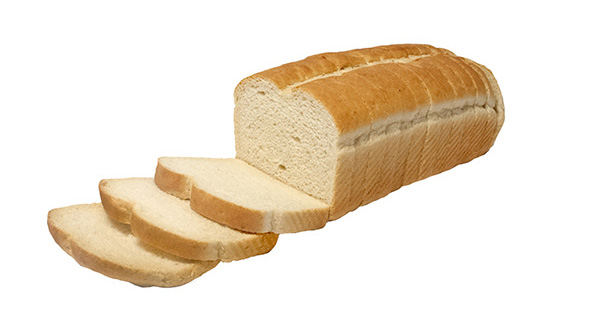slice of bread: (40, 41, 545, 285), (95, 167, 284, 261), (47, 202, 220, 292), (156, 148, 331, 235)
